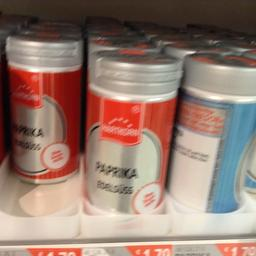spices: (82, 48, 180, 211), (167, 52, 255, 210), (4, 33, 82, 183)
